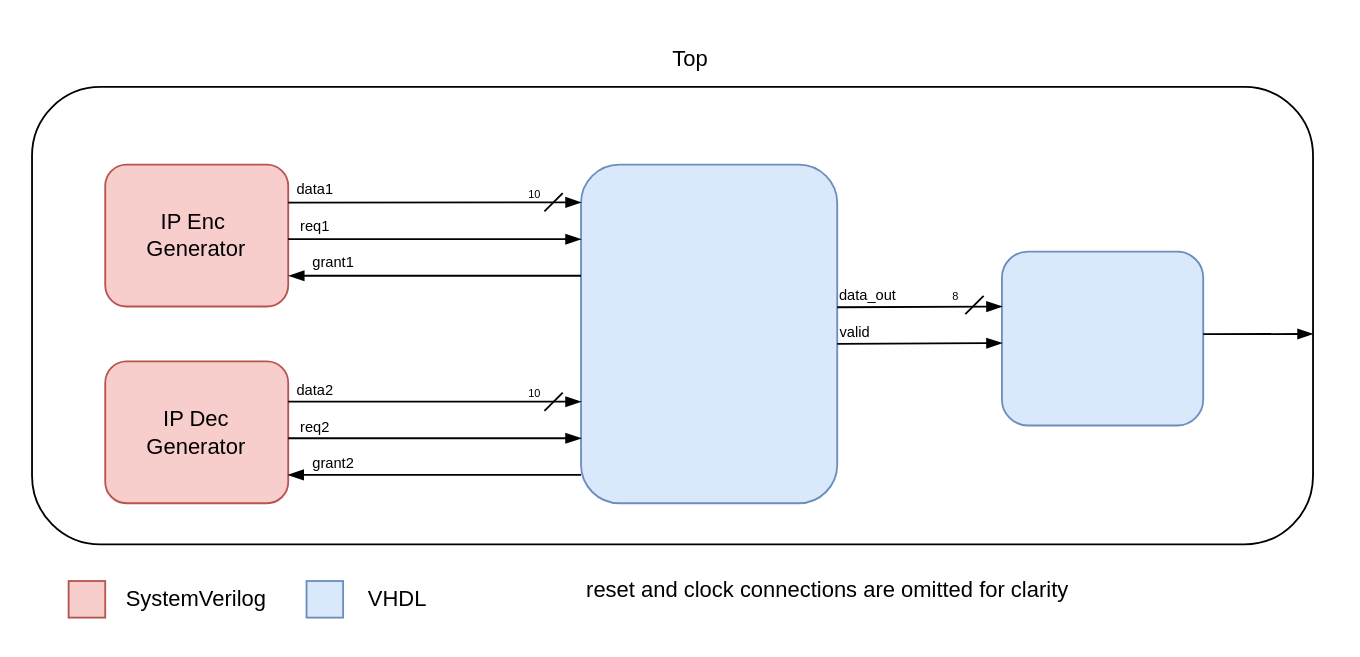
Image size: 1360x657. Some labels were removed from this diagram. Here are the shapes that lost their labels. From the top down, the centre of each, then its label:
pixel 708 333: Mini Router
pixel 1101 337: XTEA Block
